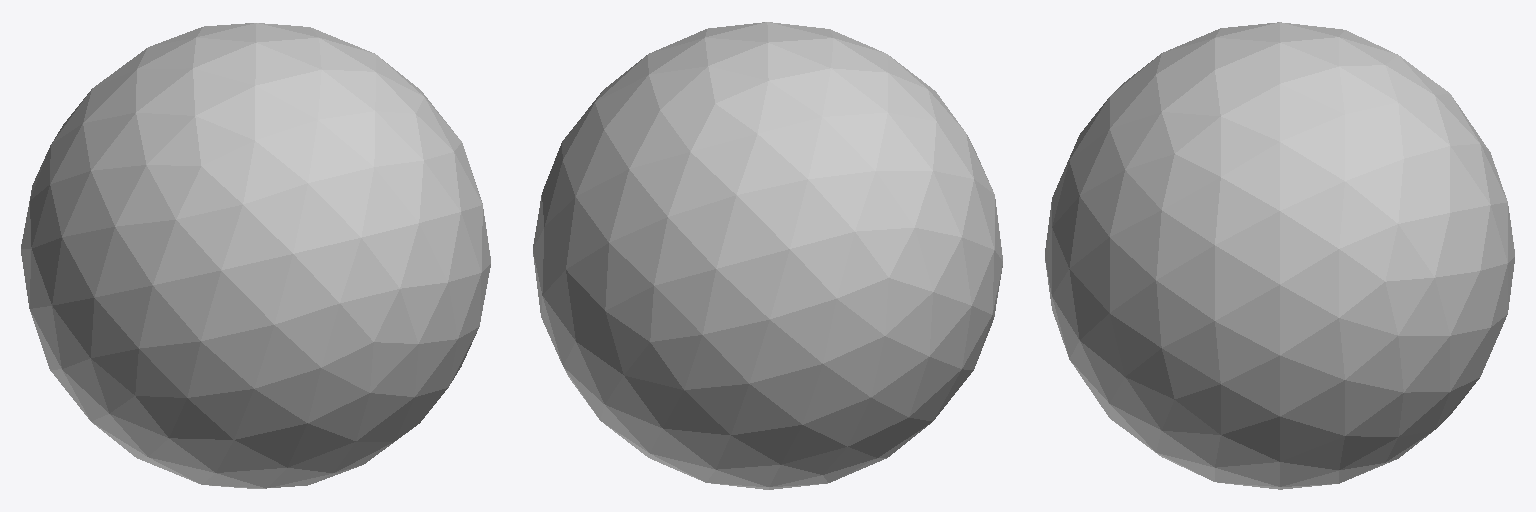
File: lightWhite.obj
The picture shows the model from 3 angles: view 1: azimuth 30°, elevation 25°; view 2: azimuth 150°, elevation 25°; view 3: azimuth 270°, elevation 25°; orthographic projection.
Size of the model in its own units: 0.158 by 0.158 by 0.158.